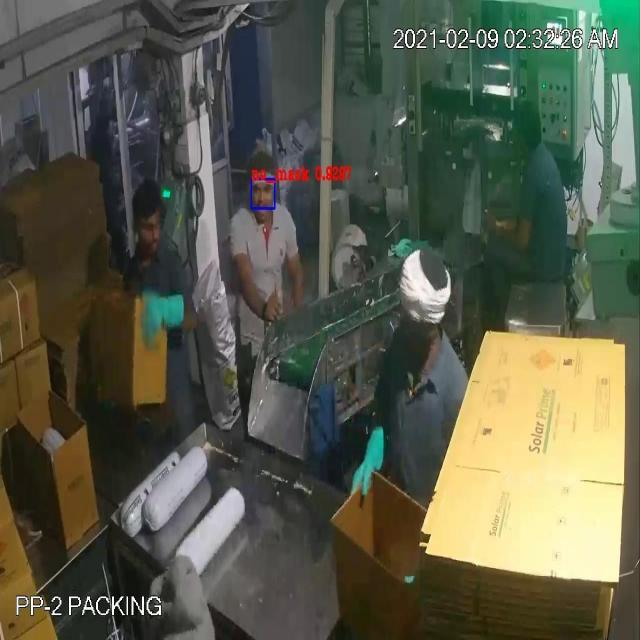Gloves: (30, 68, 506, 466)
